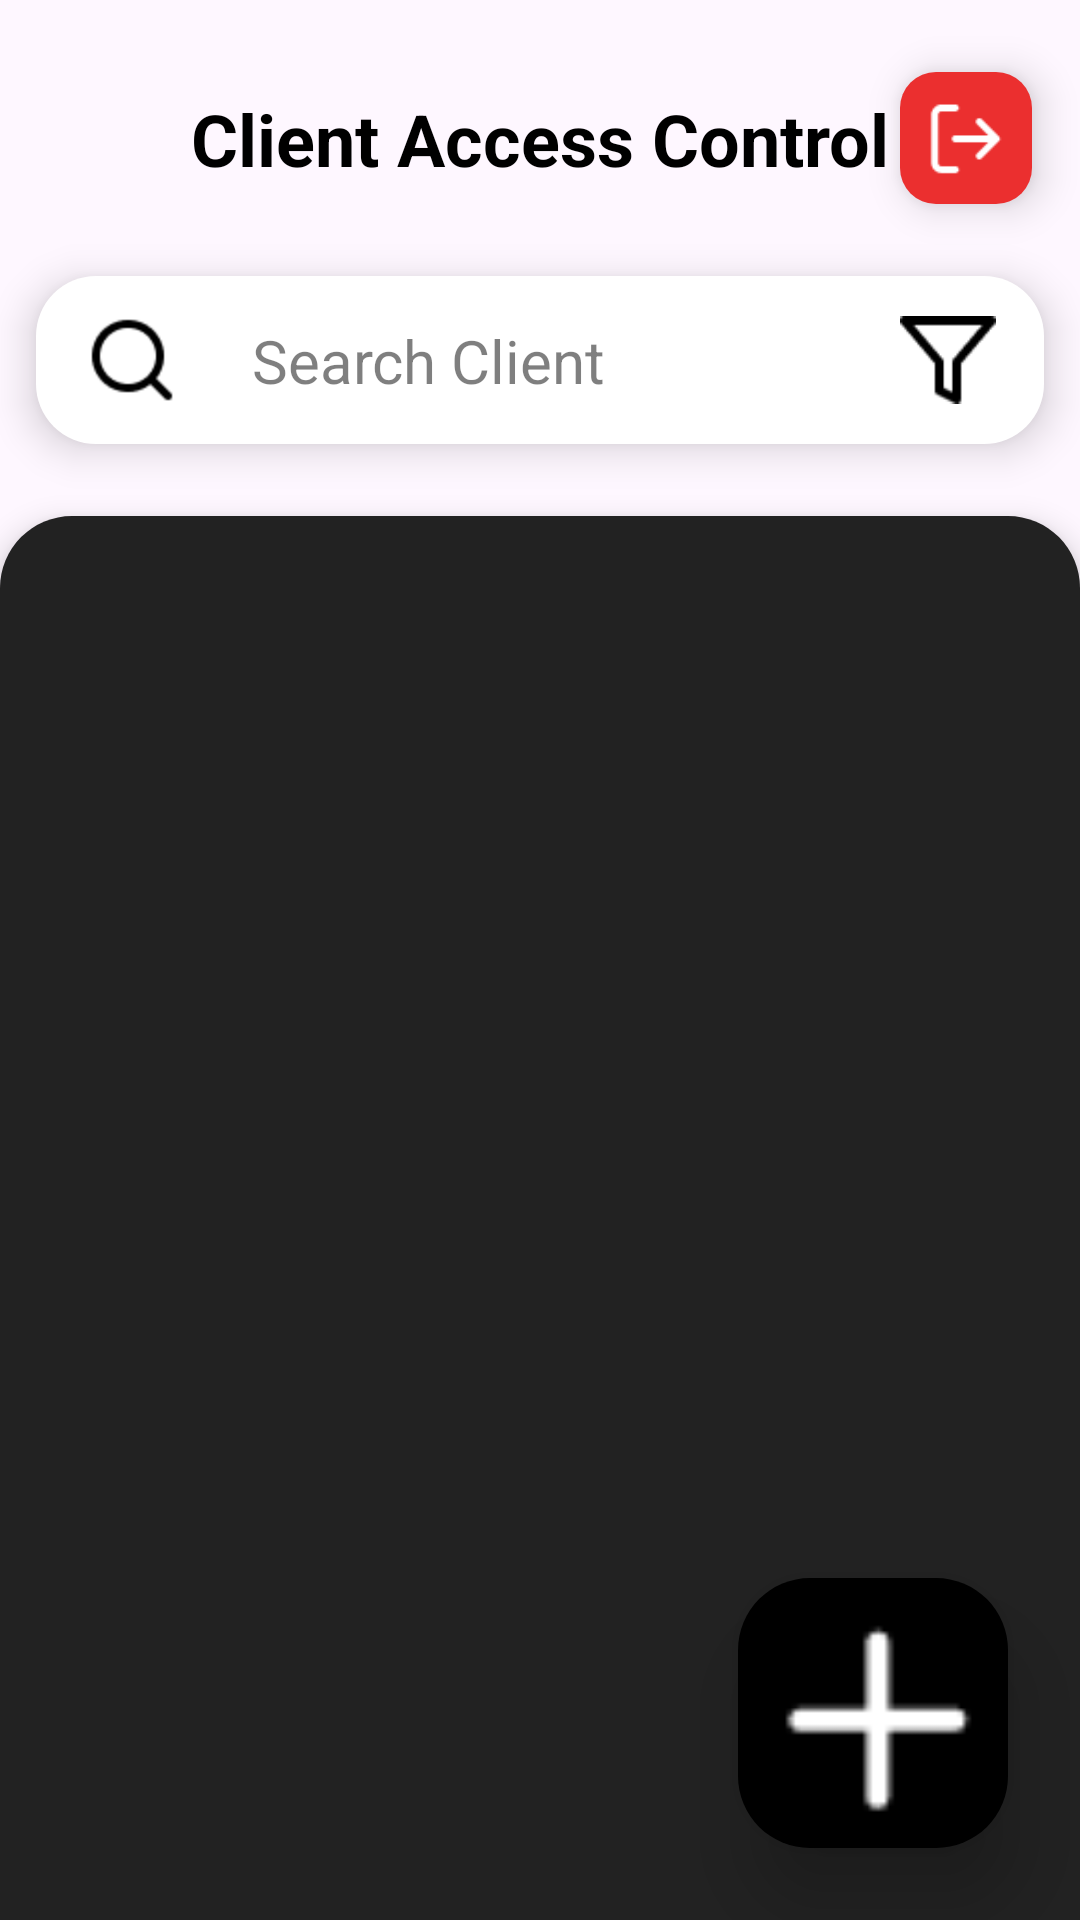

Icon bounding boxes for this 1080 × 1920 phone screenshot, format (x1, y1, x2, y2):
Add New Client: (738, 1578, 1008, 1848)
Filter Client: (900, 316, 996, 404)
Search Input: (91, 319, 173, 401)
